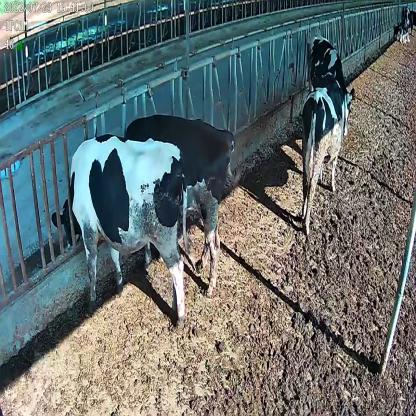cow: (51, 134, 187, 330), (119, 114, 236, 297), (300, 72, 343, 230), (306, 34, 354, 142)
